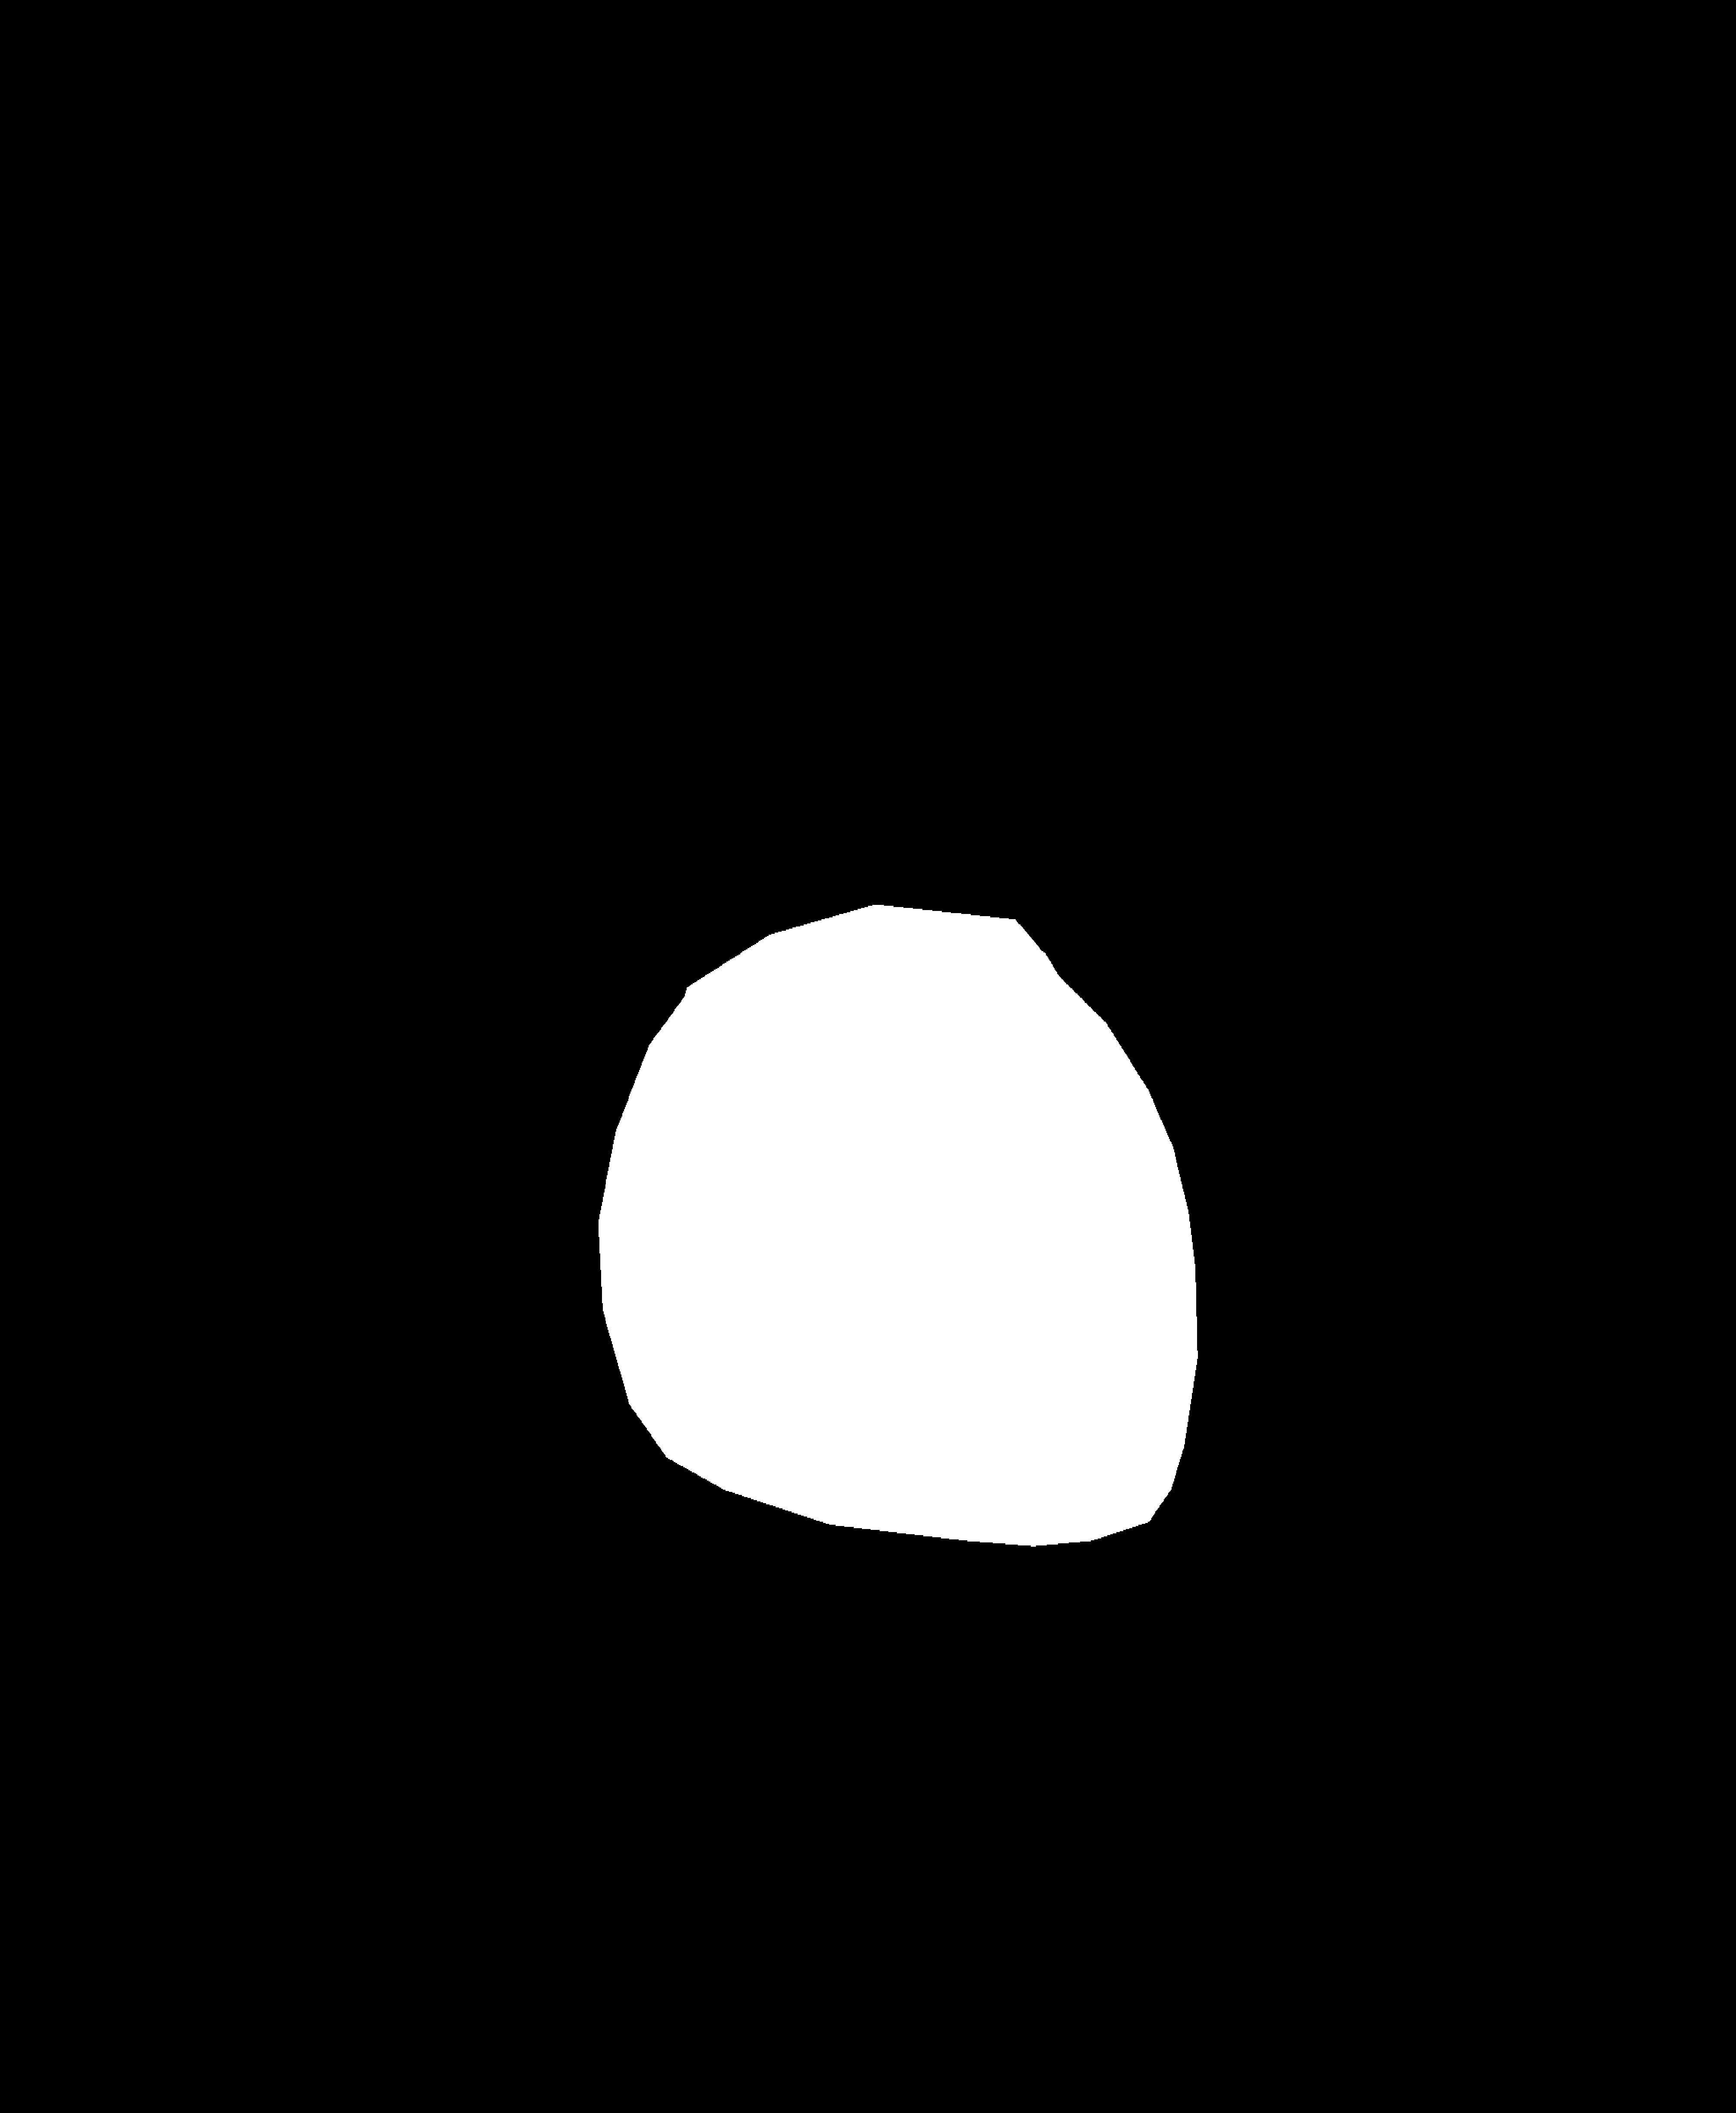heart: (590, 958, 1199, 1530)
left_lung: (179, 339, 765, 1801)
right_lung: (922, 326, 1503, 1776)
